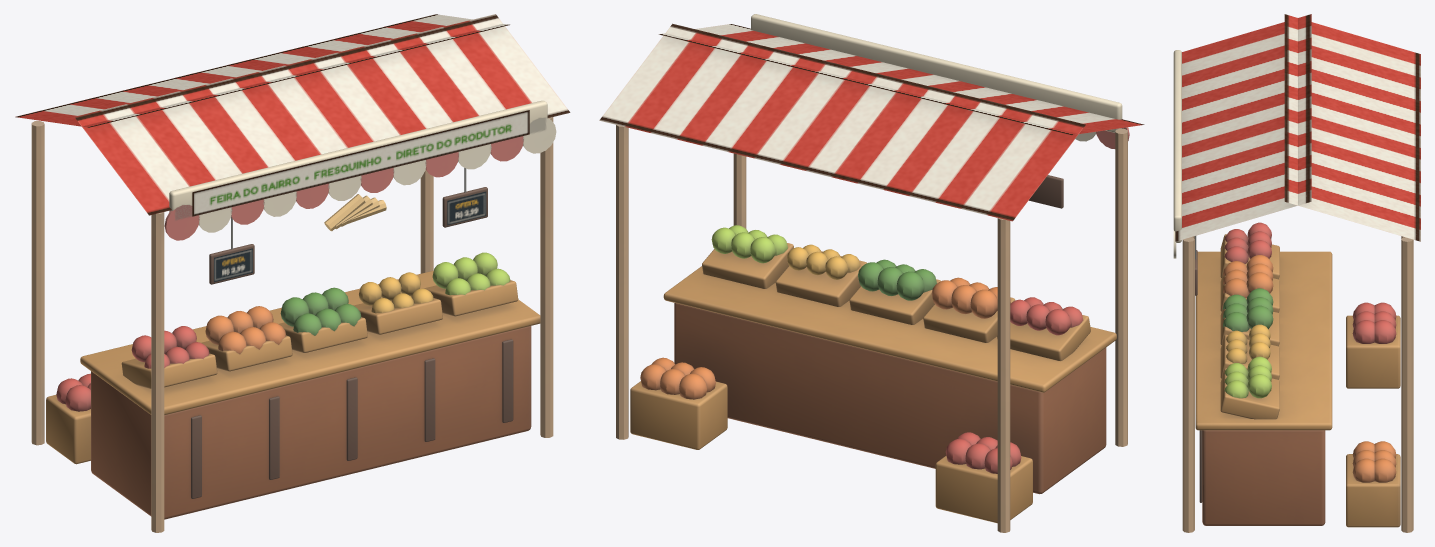
The model's file is FairStallRed.fbx.
The picture shows the model from 3 angles, left to right: view 1: azimuth 30°, elevation 25°; view 2: azimuth 150°, elevation 25°; view 3: azimuth 270°, elevation 25°; orthographic projection. The views are drawn at different scales.
Parts seen in each view (by area): view 1: FairStallRed; view 2: FairStallRed; view 3: FairStallRed.
Boxes of the visible parts, box(x1,y1,x2,y2) form: FairStallRed: box(15, 14, 570, 532); FairStallRed: box(599, 14, 1144, 532); FairStallRed: box(1173, 14, 1420, 532).
Bounding box in the file's own units: 325 × 271 × 181.
